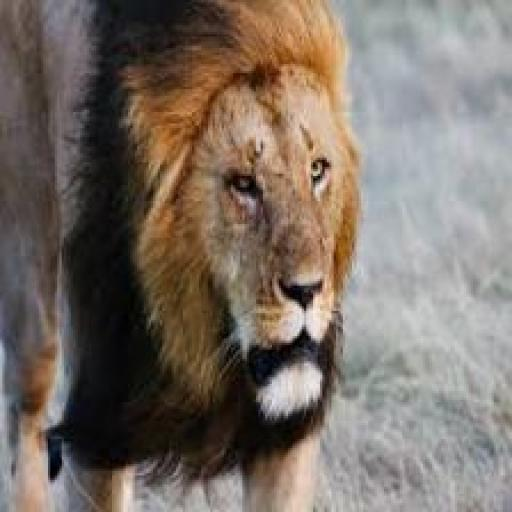lion: (0, 0, 359, 510)
